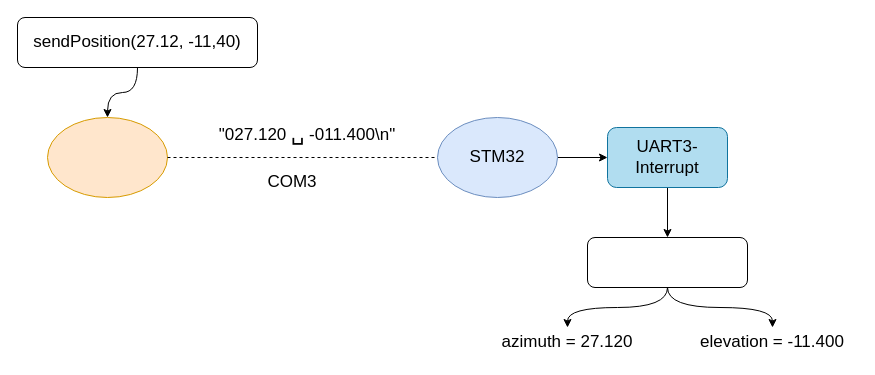
The diagram is 875 pixels wide and 375 high, and some of its shapes have lost their labels. Here are the shapes that lost their labels. From the top down, the centre of each, then its label:
At point (107, 157): "GUI".
At point (667, 262): "recievePosition ()".
